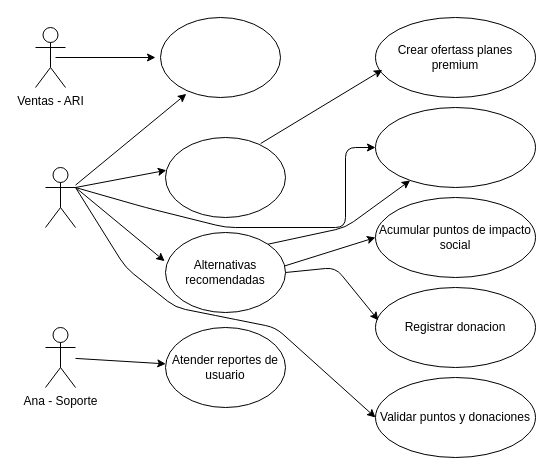
The diagram is 553 pixels wide and 475 high, and some of its shapes have lost their labels. Here are the shapes that lost their labels. From the top down, the box of each, then its label:
(160, 16, 280, 98): Gestionar publicidad patrocinada
(374, 106, 536, 188): Ver puntuacion saludable
(44, 166, 76, 228): Usuario/Cliente
(164, 136, 286, 218): Escanear alimento
